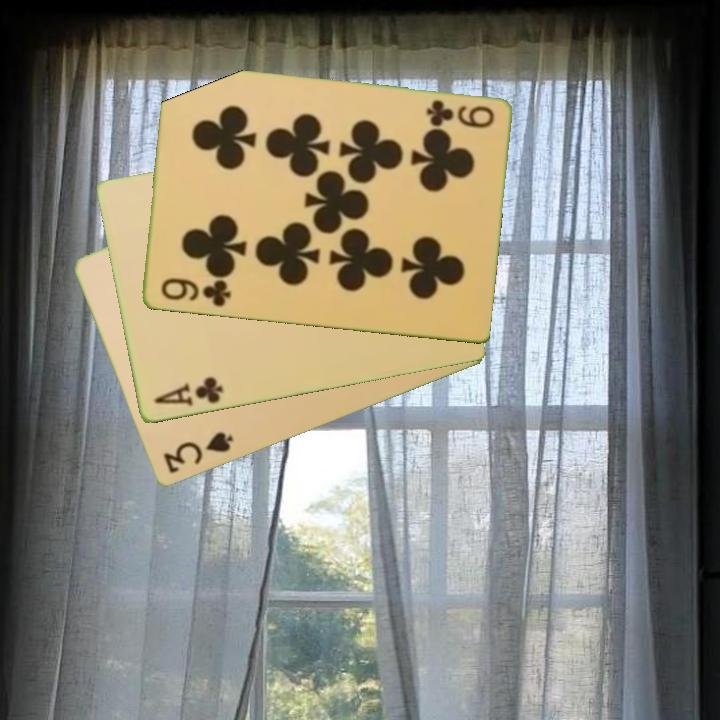3s: (160, 428, 236, 477)
9c: (422, 96, 497, 132), (157, 275, 234, 310)
Ac: (149, 373, 226, 410)
